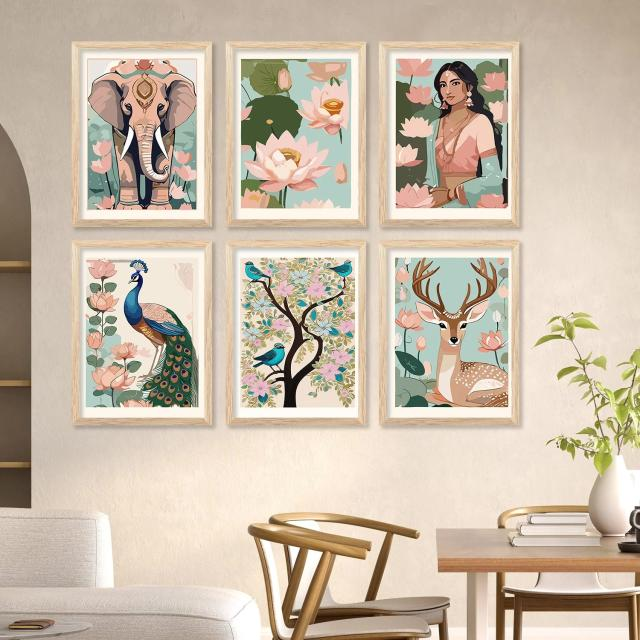painting: (226, 42, 367, 230), (380, 42, 521, 230), (381, 239, 522, 427), (226, 240, 367, 428), (71, 40, 212, 227), (74, 241, 214, 429)
